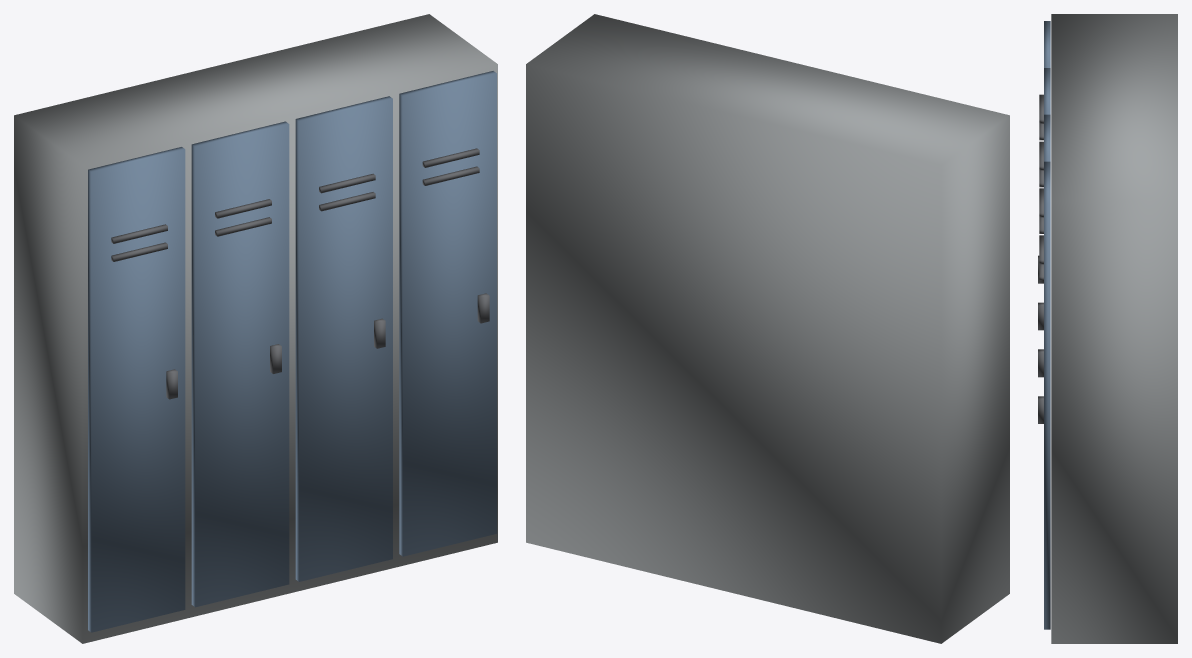
The model's file is equipment_locker.glb.
3 views of the same model, side by side, from view 1: azimuth 30°, elevation 25°; view 2: azimuth 150°, elevation 25°; view 3: azimuth 270°, elevation 25° (orthographic). The views are drawn at different scales.
Parts seen in each view (by area): view 1: world; view 2: world; view 3: world.
Boxes of the visible parts, <box> form: world: <box>14,14,497,643</box>; world: <box>526,14,1009,643</box>; world: <box>1038,14,1177,643</box>.
Bounding box in the file's own units: 1.68 × 1.85 × 0.53.
